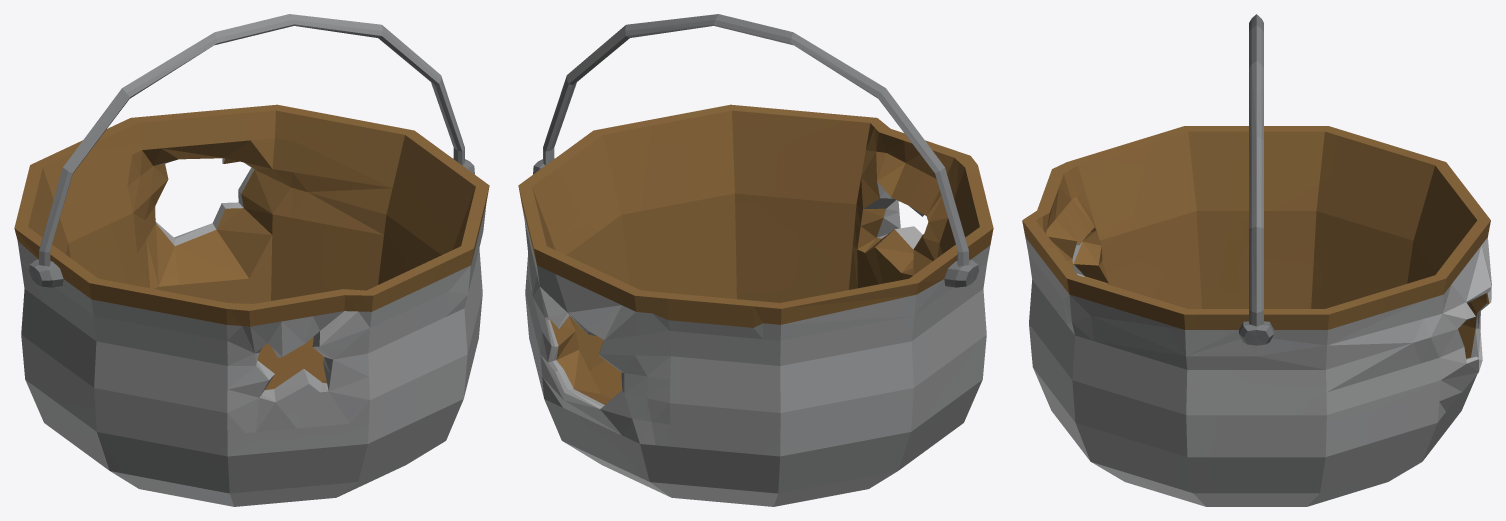
The model's file is cooking_pot_shot.obj.
3 views of the same model, side by side, from view 1: azimuth 30°, elevation 25°; view 2: azimuth 150°, elevation 25°; view 3: azimuth 270°, elevation 25° (orthographic). The views are drawn at different scales.
Visible parts, largest first — view 1: cooking_pot_shot_Material, cooking_pot_shot_handle_Material; view 2: cooking_pot_shot_Material, cooking_pot_shot_handle_Material; view 3: cooking_pot_shot_Material, cooking_pot_shot_handle_Material.
Boxes of the visible parts, x1,y1,x2,y2 form: cooking_pot_shot_Material: [14, 104, 489, 506]; cooking_pot_shot_handle_Material: [39, 14, 464, 266]; cooking_pot_shot_Material: [518, 104, 993, 506]; cooking_pot_shot_handle_Material: [543, 14, 968, 266]; cooking_pot_shot_Material: [1022, 126, 1491, 506]; cooking_pot_shot_handle_Material: [1249, 14, 1263, 326].
Size of the model in its own units: 0.379 by 0.3436 by 0.3671.
